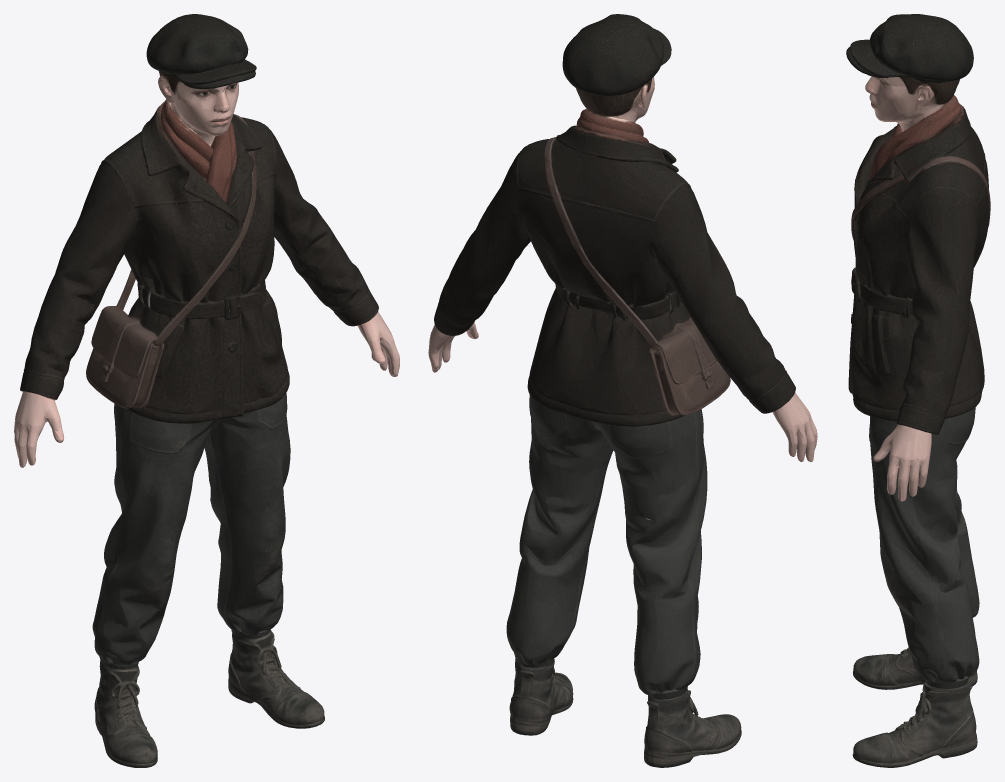
The model's file is resistance_courier.glb.
3 views of the same model, side by side, from view 1: azimuth 30°, elevation 25°; view 2: azimuth 150°, elevation 25°; view 3: azimuth 270°, elevation 25° (orthographic).
Size of the model in its own units: 1.07 by 1.9 by 0.3545.
Materials: 1 (1 with a texture image).
